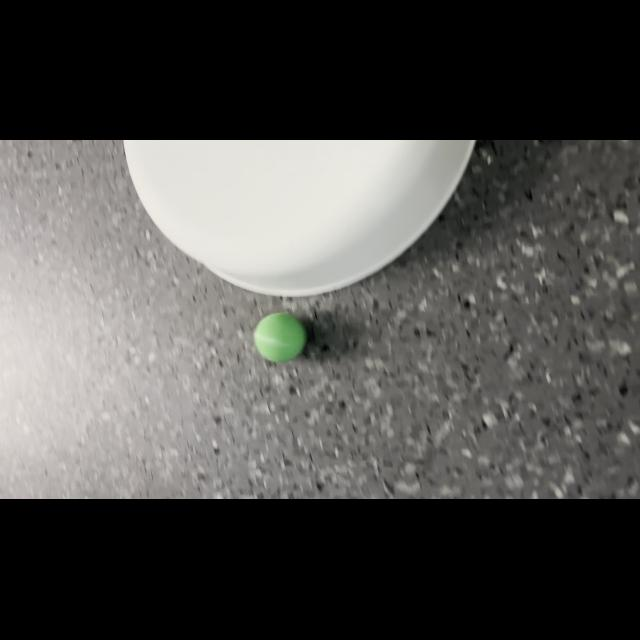objects: (250, 308, 312, 366)
